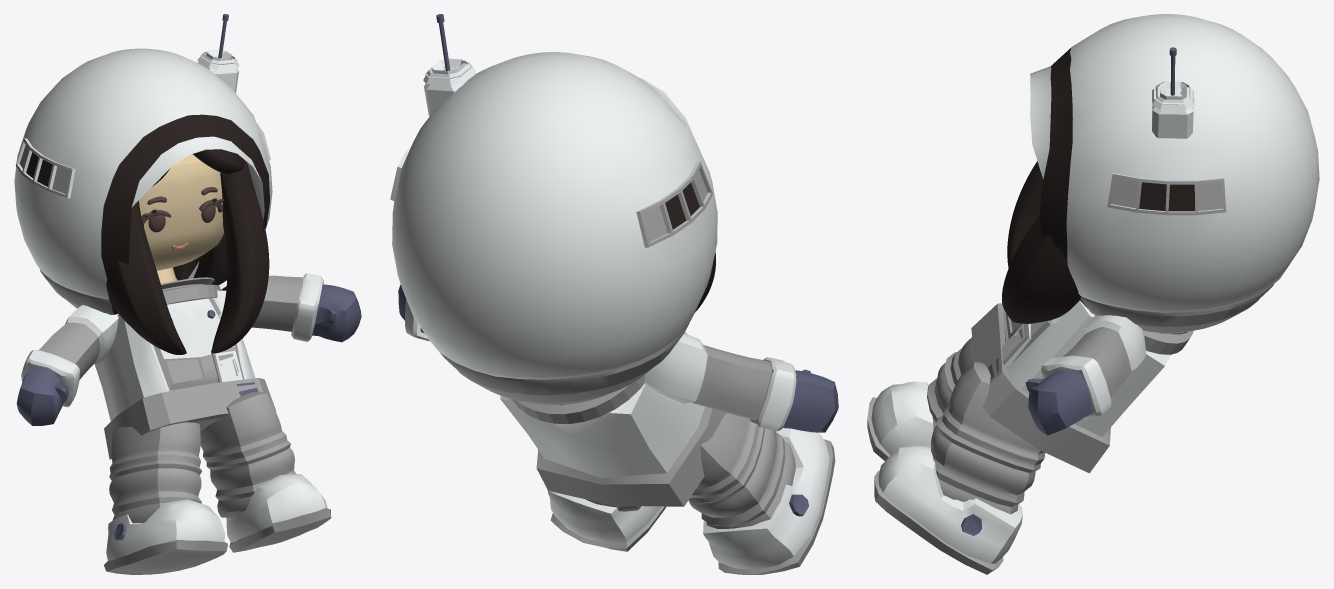
The model's file is astronaut.glb.
The picture shows the model from 3 angles, left to right: view 1: azimuth 30°, elevation 25°; view 2: azimuth 150°, elevation 25°; view 3: azimuth 270°, elevation 25°; orthographic projection. The views are drawn at different scales.
Visible parts, largest first — view 1: Sphere.001, neck, Plane.003, Plane.001, Cube.006, NurbsPath, head, Cube.002, NurbsPath.004, Plane.002, Plane.005, Plane.004 (+6 smaller); view 2: Sphere.001, neck, Cube.006, Plane.002, Plane.001, Cube.002, Plane.004, Cylinder.001, Cube.001; view 3: Sphere.001, neck, Plane.003, Cube.002, NurbsPath, Plane.005, Cube.006, Plane.006, Cube.001, NurbsPath.004, Plane.001, Cylinder.001.
Boxes of the visible parts, bbox=[...] form: Sphere.001: bbox=[14, 48, 272, 314]; neck: bbox=[94, 290, 275, 459]; Plane.003: bbox=[200, 392, 295, 517]; Plane.001: bbox=[109, 422, 201, 523]; Cube.006: bbox=[104, 499, 227, 574]; NurbsPath: bbox=[211, 160, 269, 353]; head: bbox=[139, 154, 224, 270]; Cube.002: bbox=[226, 474, 331, 552]; NurbsPath.004: bbox=[106, 200, 186, 354]; Plane.002: bbox=[21, 305, 118, 407]; Plane.005: bbox=[218, 273, 323, 341]; Plane.004: bbox=[16, 366, 68, 425]; Sphere.001: bbox=[390, 52, 717, 404]; neck: bbox=[500, 331, 727, 506]; Cube.006: bbox=[703, 428, 835, 574]; Plane.002: bbox=[644, 333, 796, 431]; Plane.001: bbox=[688, 413, 795, 528]; Cube.002: bbox=[547, 490, 665, 551]; Plane.004: bbox=[783, 369, 838, 432]; Cylinder.001: bbox=[512, 374, 644, 423]; Cube.001: bbox=[423, 58, 476, 116]; Sphere.001: bbox=[1030, 14, 1319, 333]; neck: bbox=[971, 300, 1171, 473]; Plane.003: bbox=[931, 362, 1045, 514]; Cube.002: bbox=[874, 444, 1022, 574]; NurbsPath: bbox=[1002, 215, 1081, 323]; Plane.005: bbox=[1041, 315, 1145, 419]; Cube.006: bbox=[867, 381, 933, 460]; Plane.006: bbox=[1025, 369, 1092, 435]; Cube.001: bbox=[1152, 81, 1194, 138]; NurbsPath.004: bbox=[1007, 161, 1043, 267]; Plane.001: bbox=[927, 337, 974, 429]; Cylinder.001: bbox=[1143, 331, 1193, 354].
Size of the model in its own units: 3 by 3.88 by 2.95.
